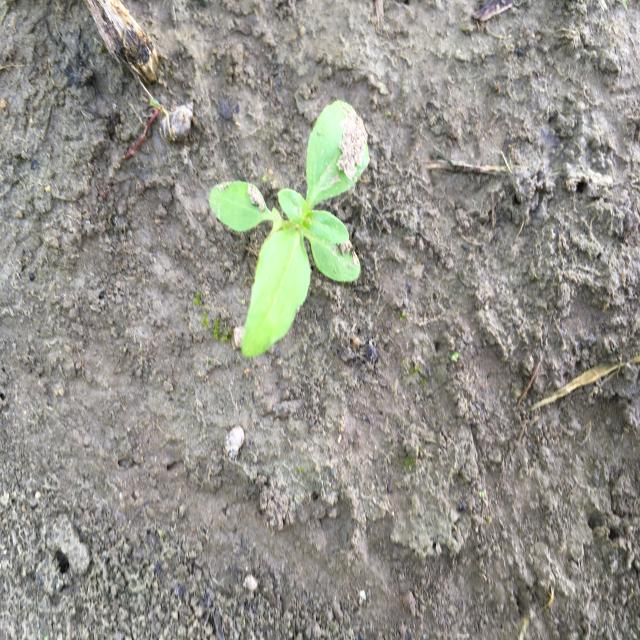Eclipta: (207, 98, 372, 360)
